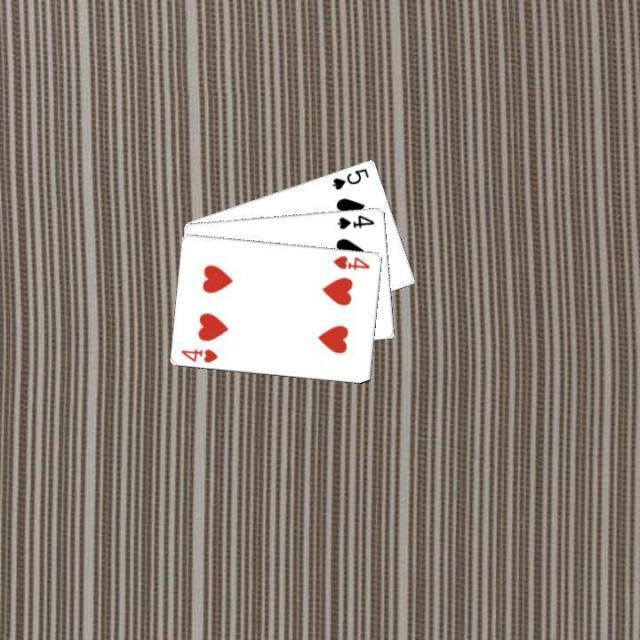4H: (329, 252, 372, 272), (178, 344, 220, 364)
4S: (334, 211, 376, 231)
5S: (329, 164, 371, 192)
